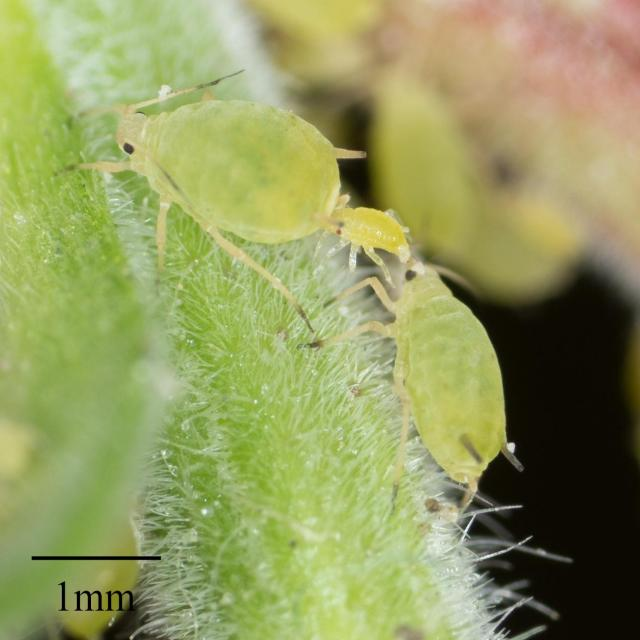Aphids: (59, 78, 366, 330), (348, 246, 561, 546)
